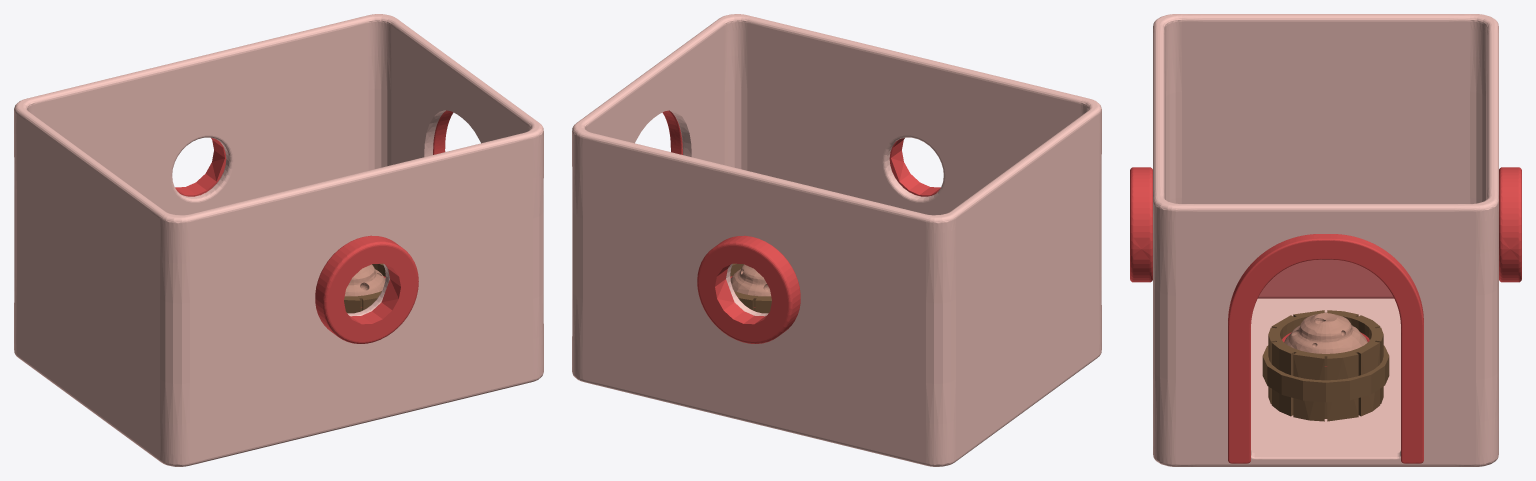
File: Jjimjilbang_ocher.fbx
3 views of the same model, side by side, from view 1: azimuth 30°, elevation 25°; view 2: azimuth 150°, elevation 25°; view 3: azimuth 270°, elevation 25° (orthographic). The views are drawn at different scales.
Parts seen in each view (by area): view 1: 개체_5, 개체_10, 개체_9, 개체_1, 개체_6; view 2: 개체_5, 개체_9, 개체_10, 개체_1, 개체_6; view 3: 개체_5, 개체_11, 개체_6, 개체_7, 개체_8, 개체_9, 개체_10, 개체_1.
Boxes of the visible parts, x1=… form: 개체_5: x1=14, y1=14, x2=543, y2=466; 개체_10: x1=315, y1=235, x2=418, y2=343; 개체_9: x1=175, y1=138, x2=226, y2=196; 개체_1: x1=345, y1=264, x2=385, y2=296; 개체_6: x1=344, y1=263, x2=385, y2=313; 개체_5: x1=572, y1=14, x2=1101, y2=466; 개체_9: x1=697, y1=235, x2=800, y2=343; 개체_10: x1=889, y1=138, x2=940, y2=196; 개체_1: x1=730, y1=264, x2=770, y2=296; 개체_6: x1=730, y1=263, x2=771, y2=313; 개체_5: x1=1153, y1=14, x2=1498, y2=466; 개체_11: x1=1228, y1=234, x2=1423, y2=463; 개체_6: x1=1268, y1=310, x2=1383, y2=421; 개체_7: x1=1258, y1=259, x2=1393, y2=298; 개체_8: x1=1262, y1=345, x2=1389, y2=402; 개체_9: x1=1499, y1=167, x2=1521, y2=282; 개체_10: x1=1130, y1=167, x2=1152, y2=282; 개체_1: x1=1284, y1=313, x2=1367, y2=353.
Bounding box in the file's own units: 825 × 500 × 680.
